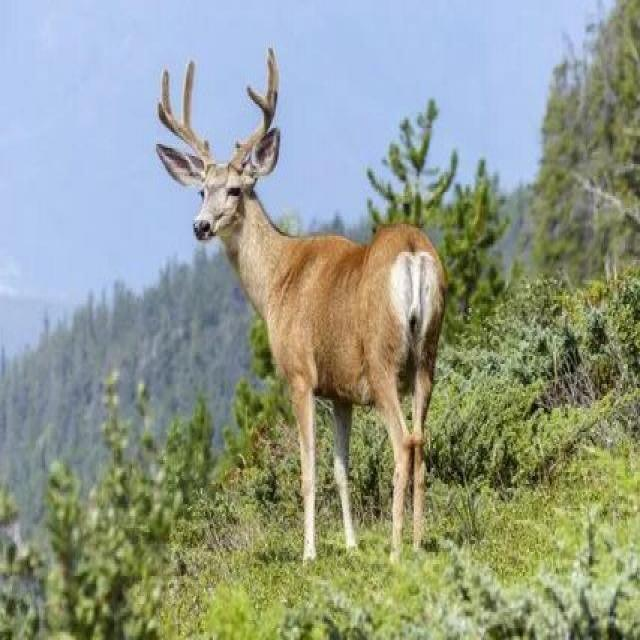deer: (98, 41, 480, 538)
